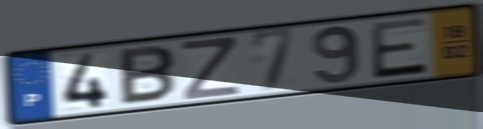4: (59, 50, 112, 111)
7: (248, 25, 297, 97)
9: (309, 24, 363, 85)
B: (117, 43, 178, 108)
E: (367, 15, 430, 82)
Z: (179, 35, 242, 102)
